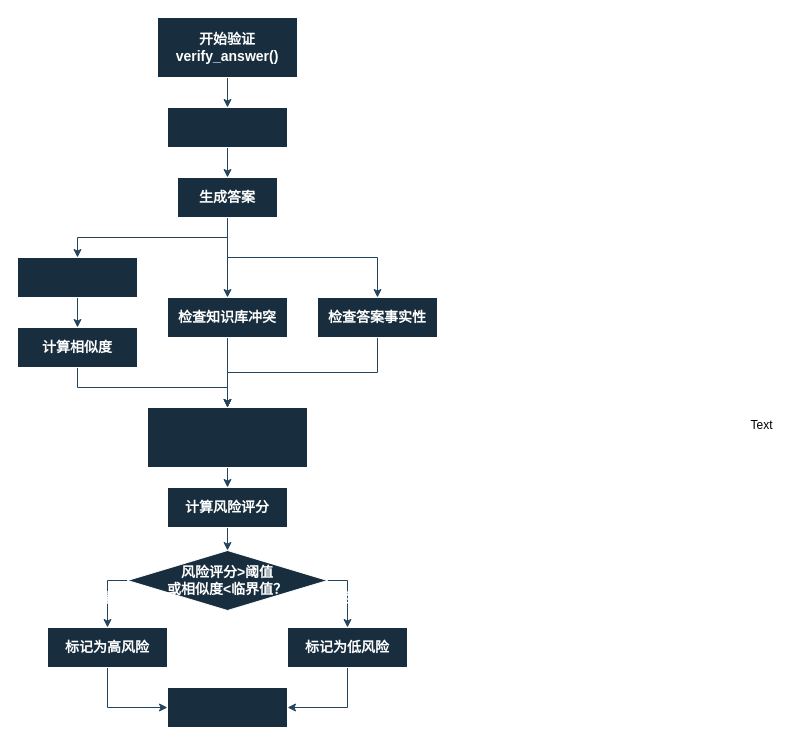
Image size: 799x745. Some labels were removed from this diagram. Here are the shapes that lost their labels. From the top down, the centre of each, then its label:
At [227,127]: "分析问题文本".
At [77,277]: "反向生成问题".
At [227,437]: "幻觉检测 HallucinationDetector".
At [227,707]: "保存验证结果".
